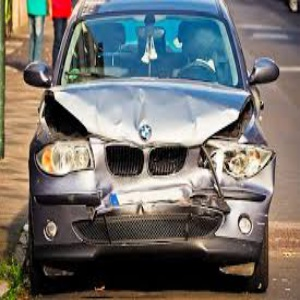bonnet: (50, 78, 252, 145)
